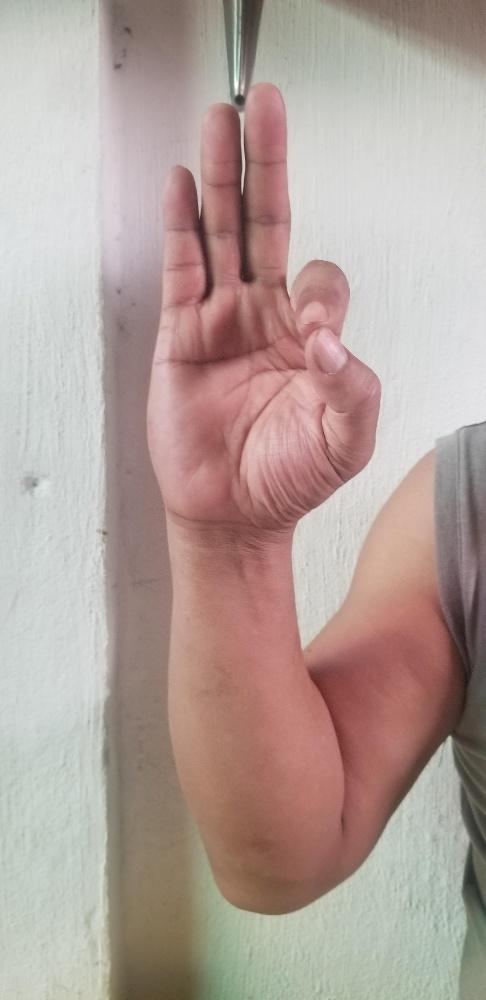f: (143, 84, 383, 511)
